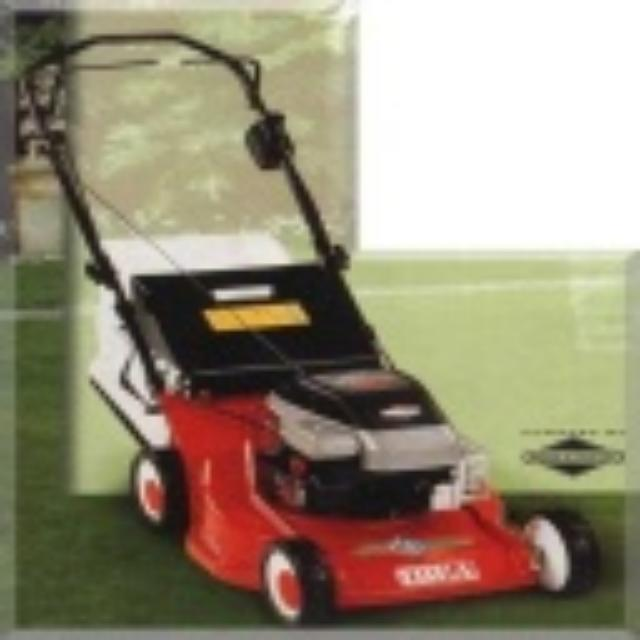Rotary-Mower: (16, 25, 600, 620)
